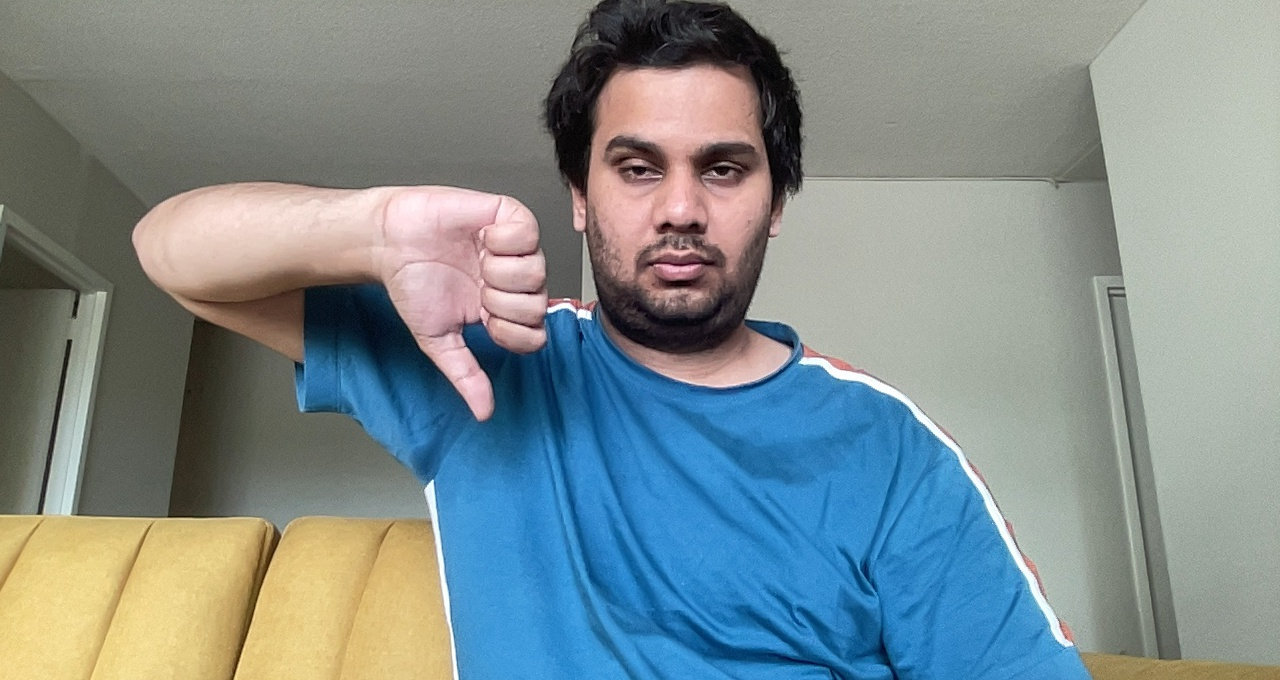thumbsdown: (375, 161, 560, 426)
